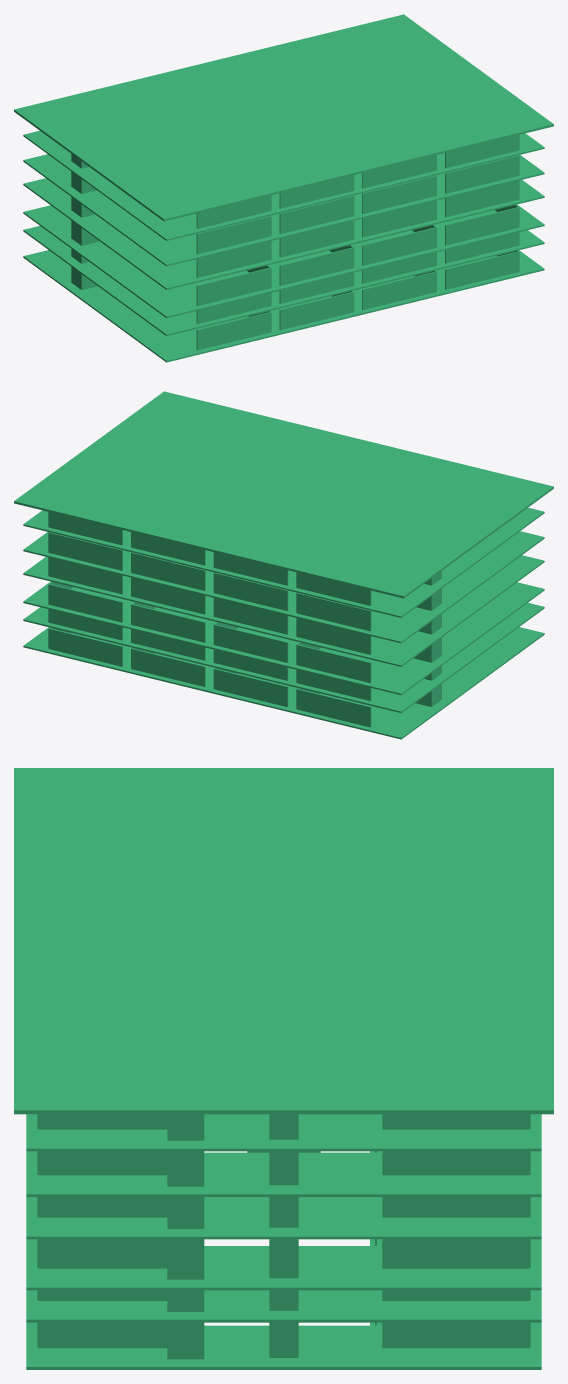
File: PathFinder_Teaching_Block.obj
The picture shows the model from 3 angles, top to bottom: view 1: azimuth 30°, elevation 25°; view 2: azimuth 150°, elevation 25°; view 3: azimuth 270°, elevation 25°; orthographic projection. The views are drawn at different scales.
Visible parts, largest first — view 1: PathFinder_Teaching_Block; view 2: PathFinder_Teaching_Block; view 3: PathFinder_Teaching_Block.
Part boxes in pixels (box(x1,y1,x2,y2)): PathFinder_Teaching_Block: box(14, 14, 553, 362); PathFinder_Teaching_Block: box(14, 391, 553, 739); PathFinder_Teaching_Block: box(14, 768, 553, 1369).
Size of the model in its own units: 66 by 24.17 by 44.
